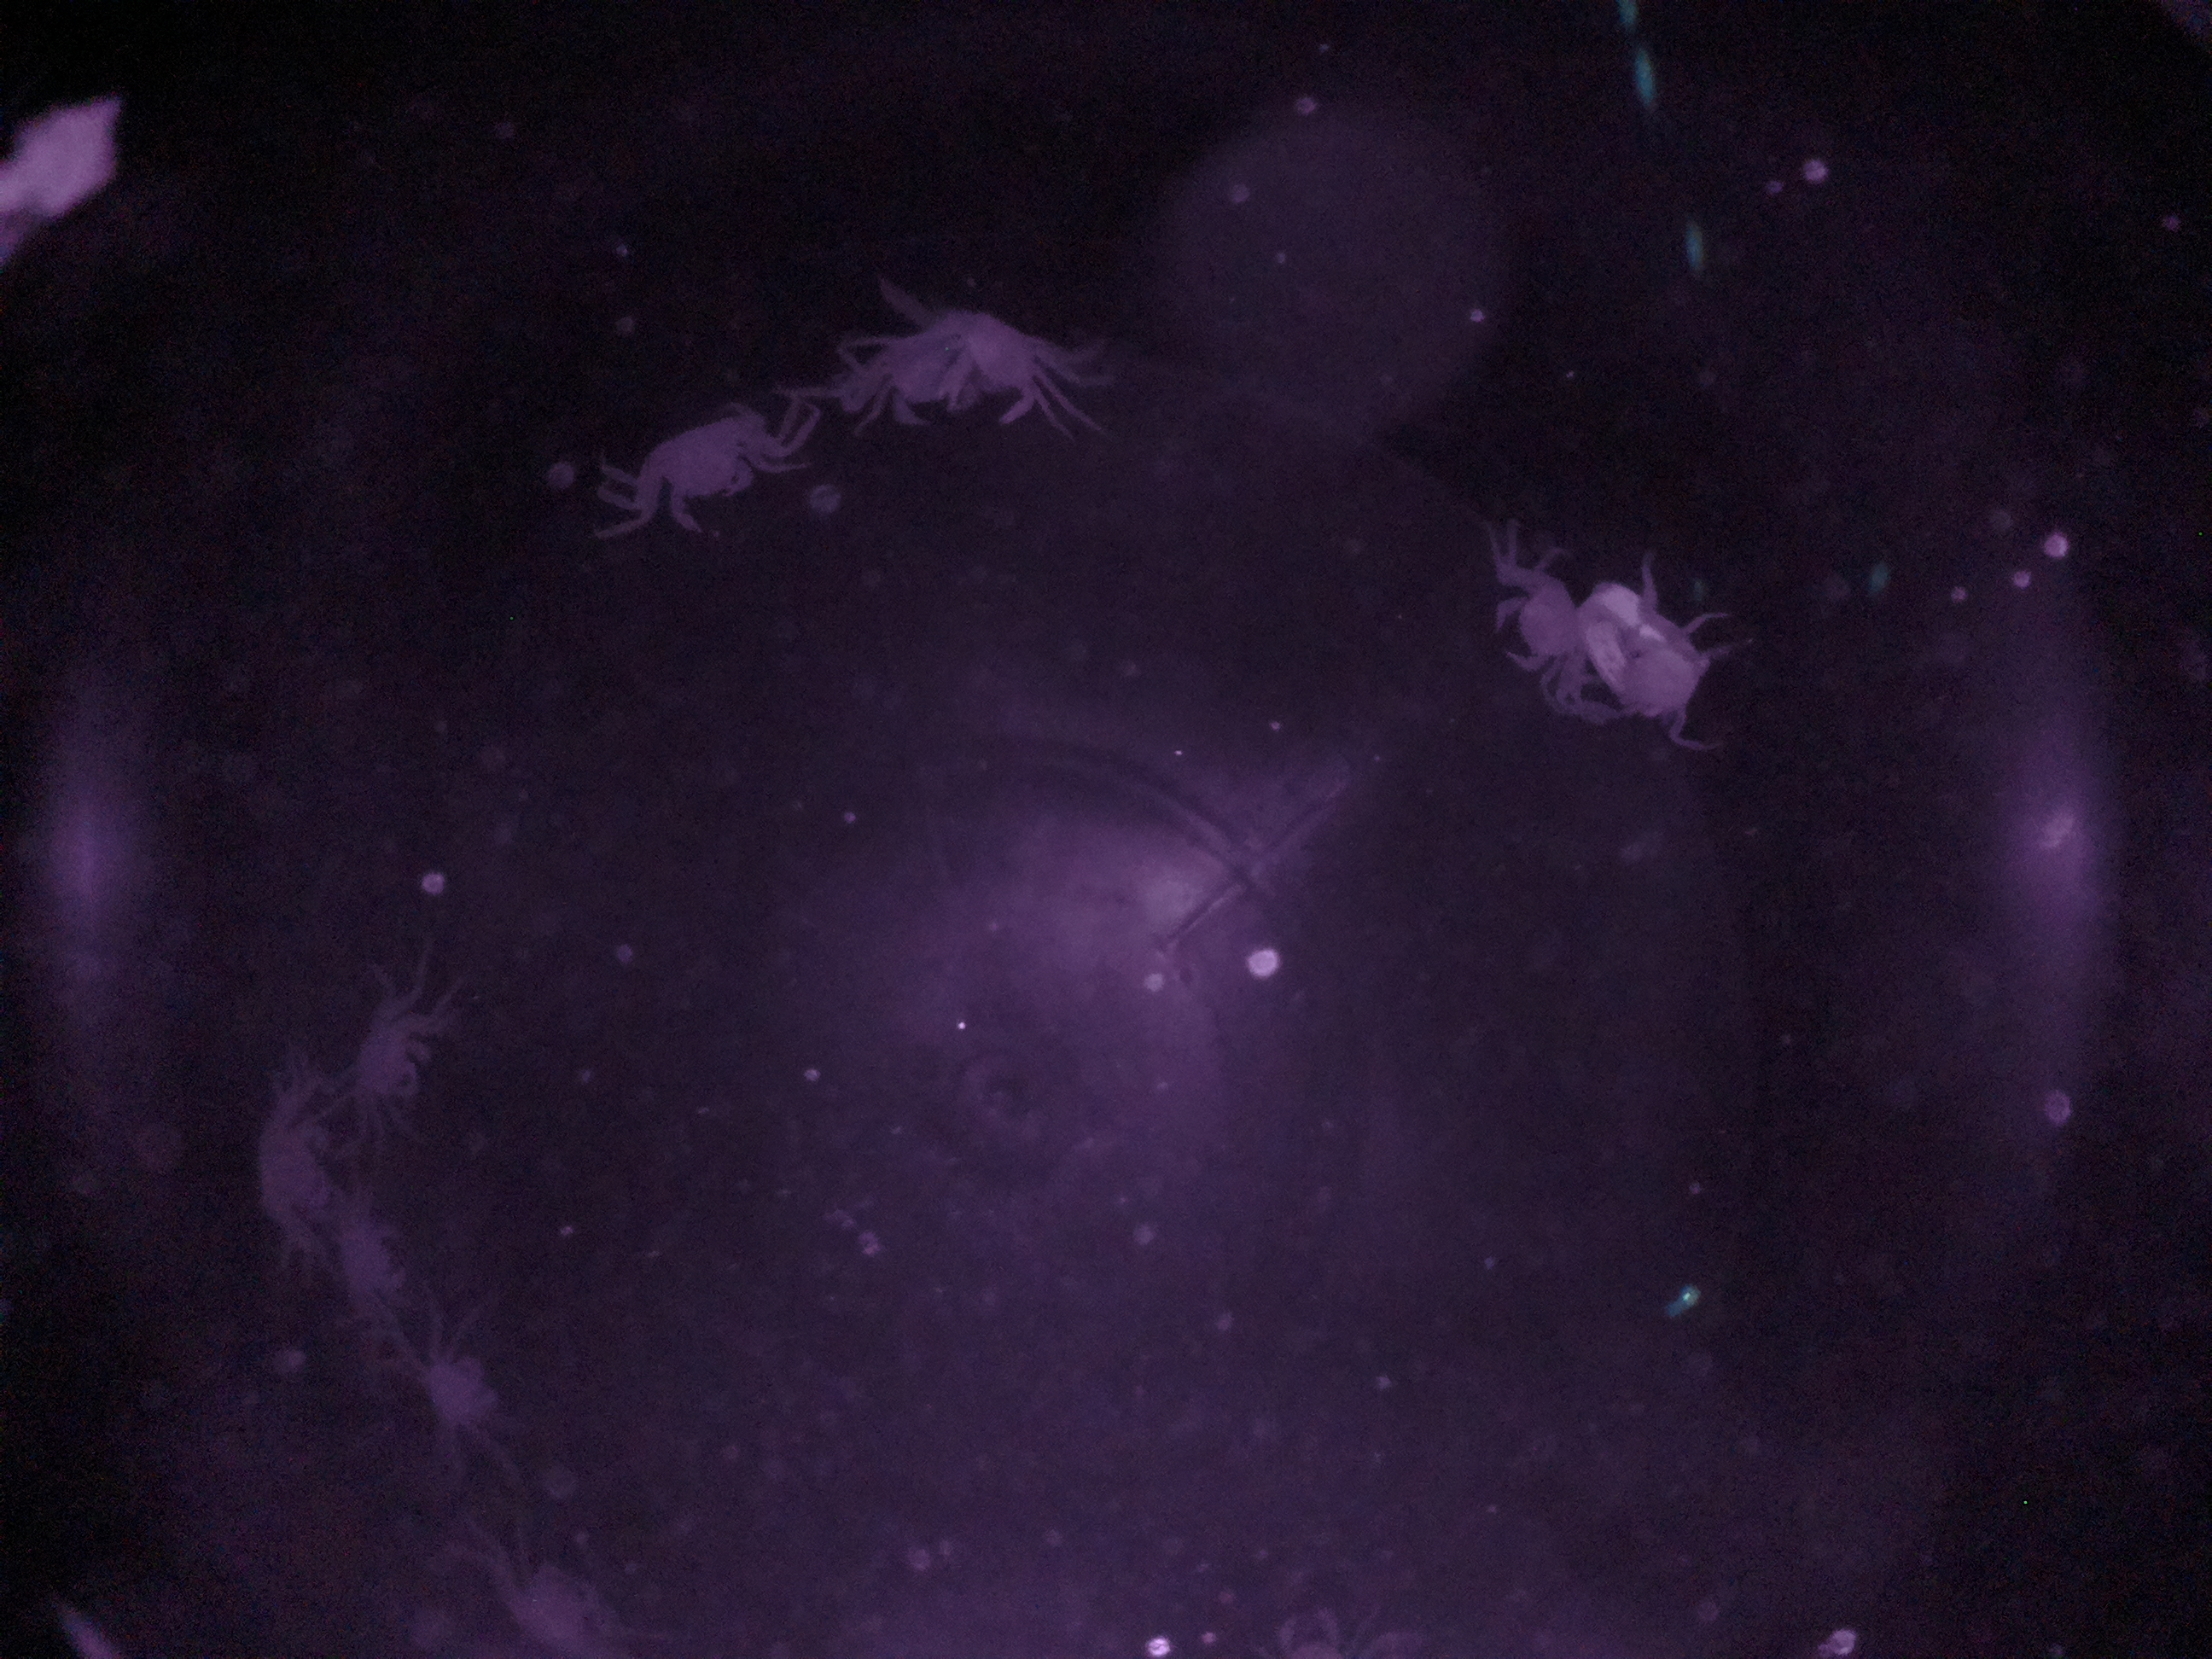Crab: (608, 390, 789, 542), (1482, 559, 1604, 692)
